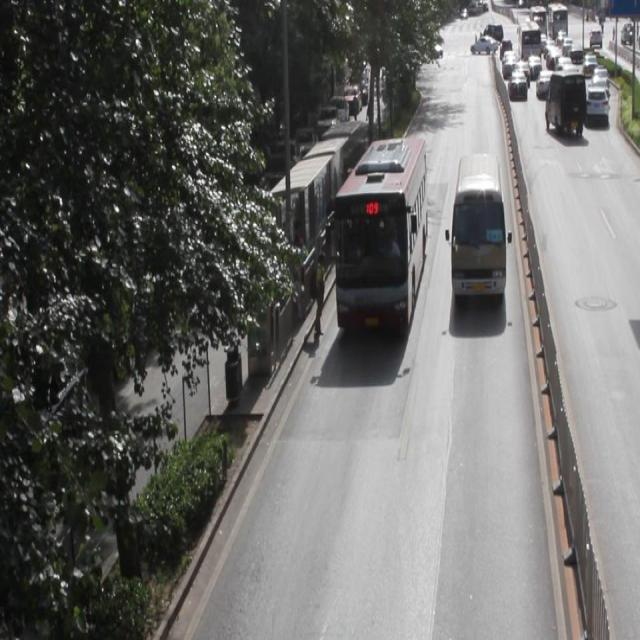truck: (448, 151, 504, 298)
van: (334, 134, 424, 329)
